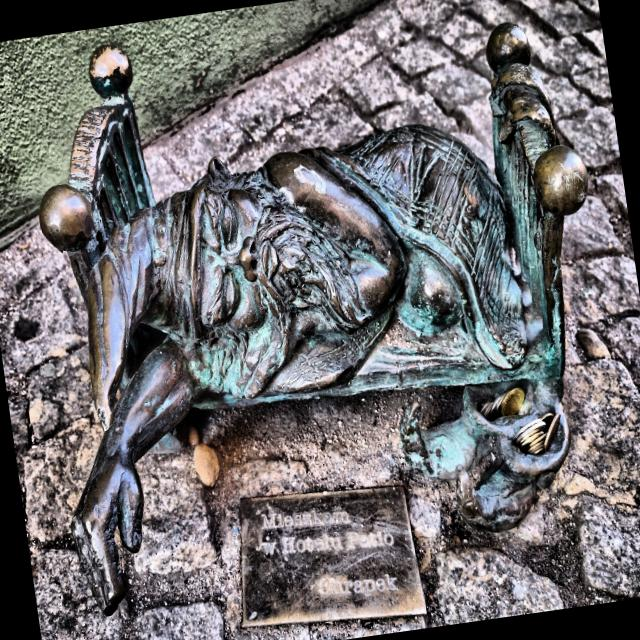Chrapek: (40, 25, 588, 615)
